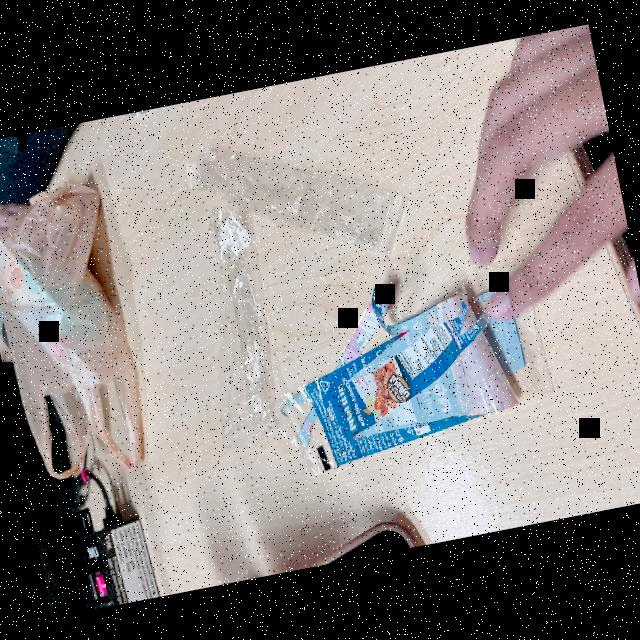scrap_plastic: (260, 268, 560, 486), (179, 93, 411, 300), (180, 204, 302, 460)
